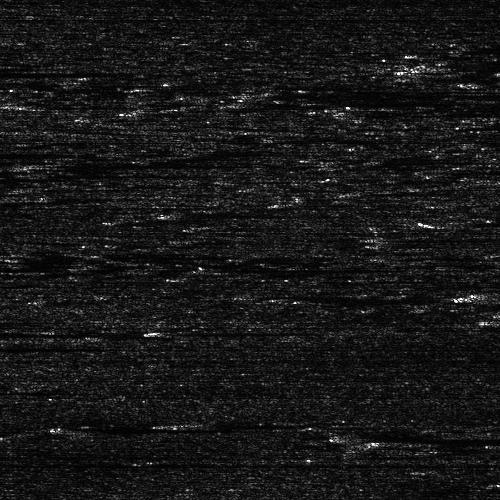object: (385, 54, 500, 75), (331, 427, 424, 452), (201, 84, 336, 101), (5, 158, 110, 169), (439, 288, 500, 301), (422, 216, 495, 225), (53, 425, 116, 434), (162, 208, 235, 215), (151, 420, 224, 427), (0, 323, 44, 334), (145, 328, 186, 333), (449, 82, 490, 85)
shadow: (269, 84, 488, 101), (378, 427, 500, 452), (57, 158, 262, 169), (0, 323, 165, 334), (0, 252, 54, 279), (0, 68, 130, 77), (84, 425, 212, 434), (447, 54, 500, 75), (0, 171, 89, 182), (166, 328, 298, 333), (0, 343, 119, 348), (0, 53, 40, 66), (199, 208, 268, 215), (188, 420, 253, 427), (458, 216, 500, 225), (470, 82, 500, 85)
